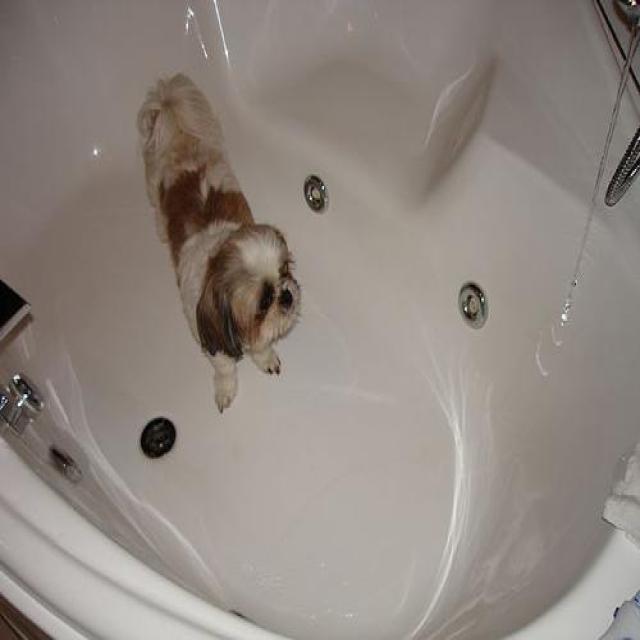shih_tzu: (132, 68, 303, 415)
